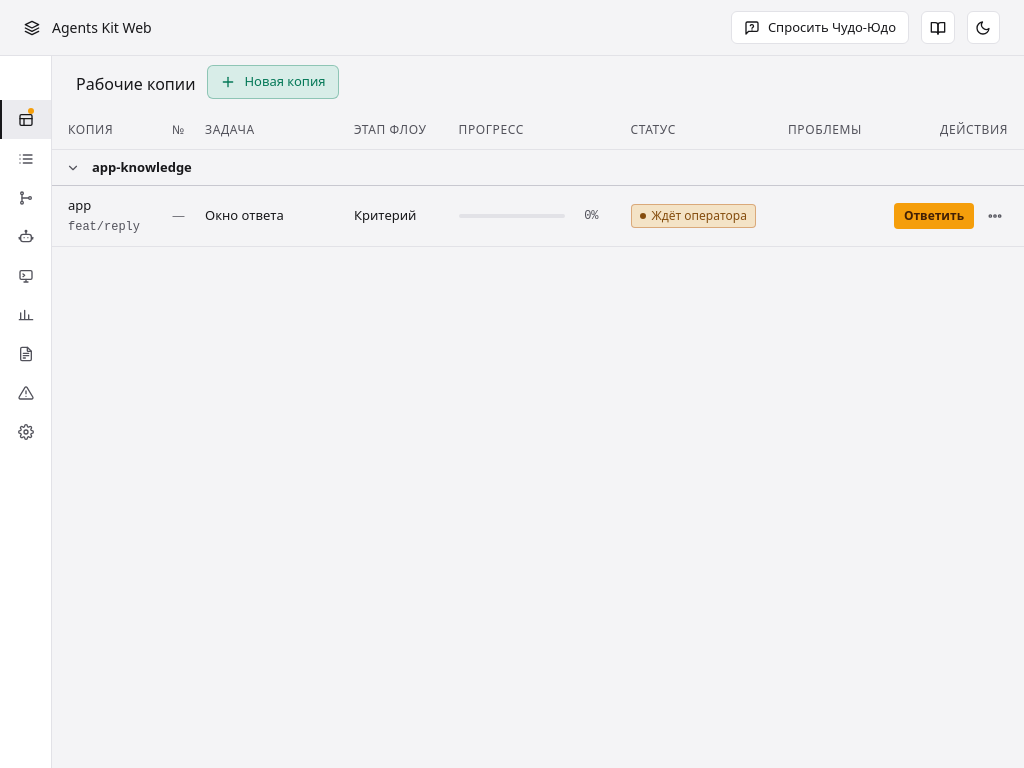
Test case: в шапке — задача, проект и имя копии со значками, без ветки и полного пути копии
Click the button "Ответить" at (934, 216), box [894,203,974,229]
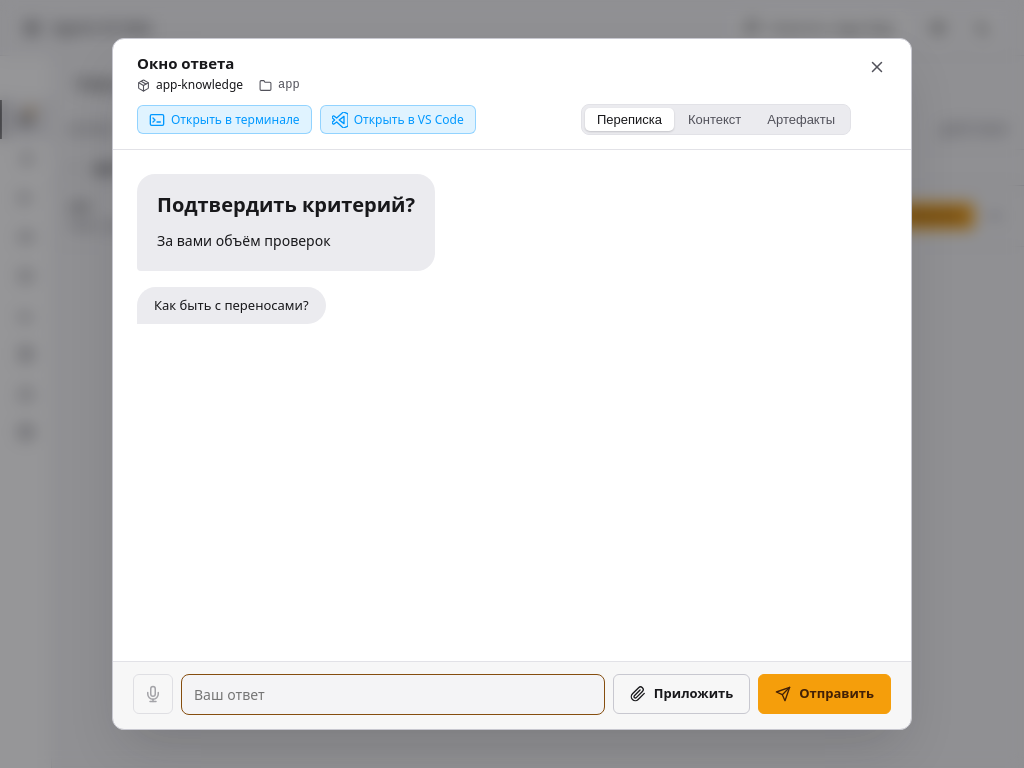
Result: the heading "Подтвердить критерий?" is shown at [157,192,415,218]
Result: the text with class "strip-task" reads "Окно ответа" at [137,53,234,73]
Result: the element with class "strip-meta" reads "app-knowledge app" at [137,76,300,93]
